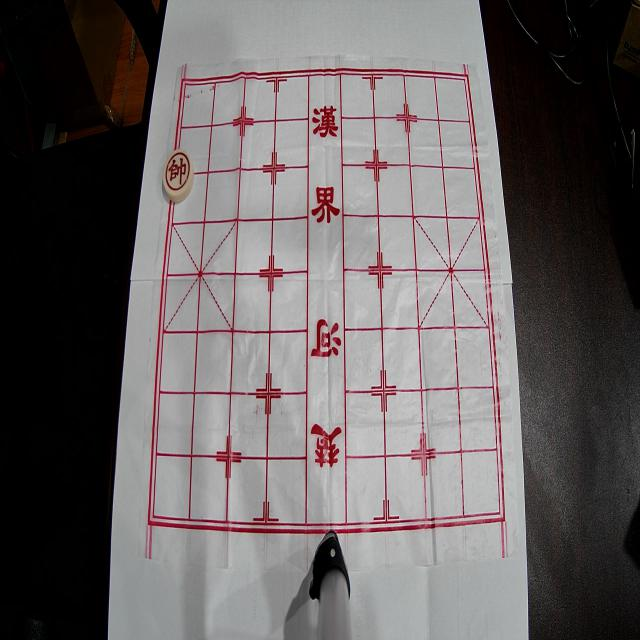red-general: (163, 149, 194, 203)
